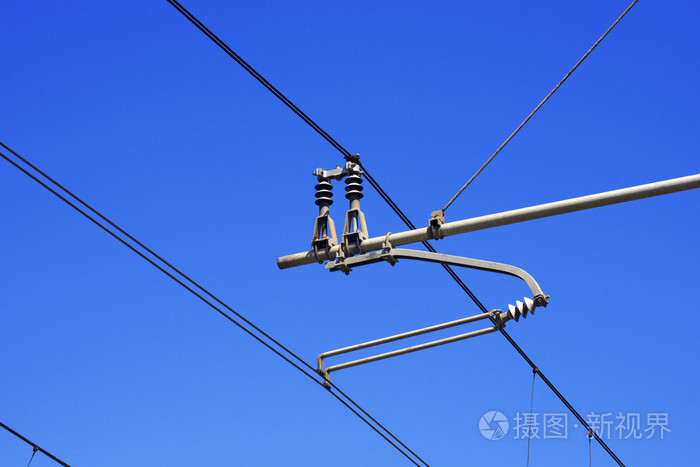insulator: (313, 181, 336, 208), (342, 176, 364, 200), (508, 298, 533, 319)
